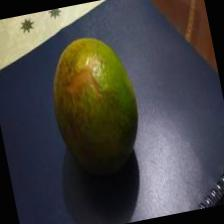Orange Rotten: (34, 18, 162, 202)
